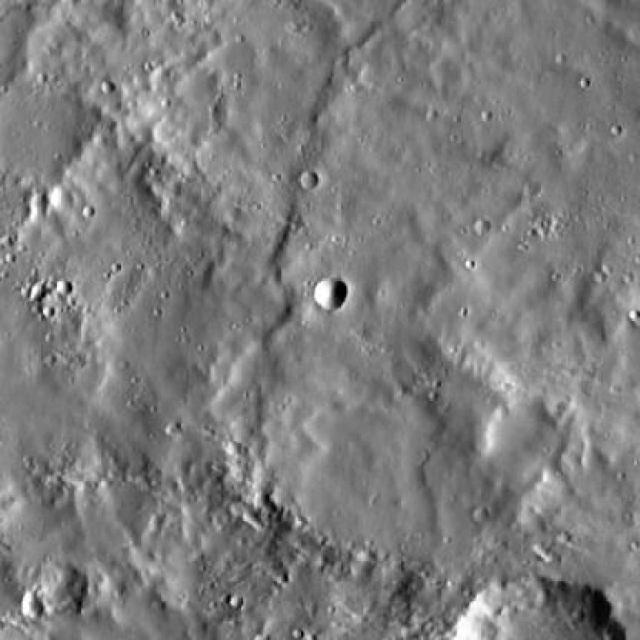crater: (28, 558, 82, 612), (312, 270, 350, 308), (10, 586, 35, 611), (295, 168, 317, 189), (56, 280, 72, 295)
